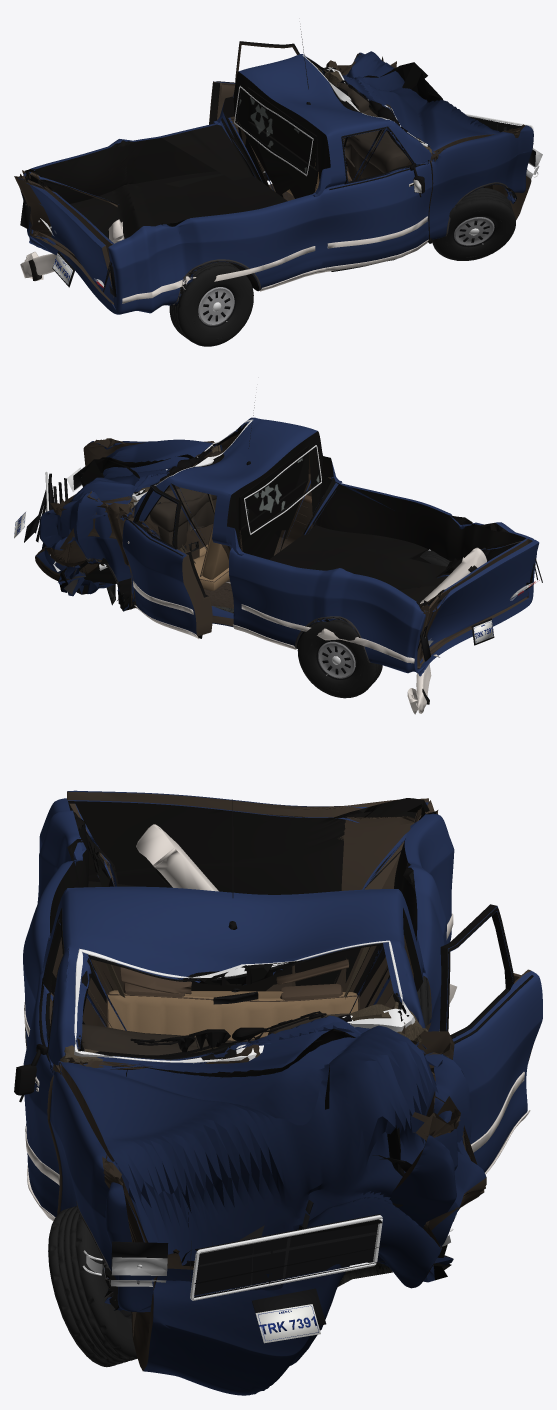
Rendered from pickup87_front_corner_d3_lod1.glb.
The picture shows the model from 3 angles, top to bottom: view 1: azimuth 30°, elevation 25°; view 2: azimuth 150°, elevation 25°; view 3: azimuth 270°, elevation 25°; orthographic projection. The views are drawn at different scales.
Visible parts, largest first — view 1: Body, Hood, Wheel_RR_mesh, Wheel_FR_mesh, Tailgate, Door_FR, Interior, Trim, Trim_FR, Ends, Glass, Door_FL (+1 smaller); view 2: Body, Hood, Door_FL, Tailgate, Wheel_RL_mesh, Interior, Trim, Ends, Bumper_R, Glass, Trim_FL, Door_FR; view 3: Body, Hood, Ends, Interior, Door_FL, Wheel_FR_mesh, Glass, Door_FR, Tailgate, Bumper_R, Trim, Trim_FR (+1 smaller).
Part boxes in pixels (x1,y1,x2,y2): Body: [20, 52, 533, 314]; Hood: [341, 51, 531, 219]; Wheel_RR_mesh: [169, 262, 253, 346]; Wheel_FR_mesh: [432, 187, 515, 260]; Tailgate: [14, 176, 113, 302]; Door_FR: [324, 128, 433, 267]; Interior: [287, 80, 409, 195]; Trim: [122, 26, 516, 305]; Trim_FR: [324, 126, 429, 272]; Ends: [20, 114, 542, 296]; Glass: [234, 55, 427, 176]; Door_FL: [209, 41, 299, 171]; Body: [39, 417, 536, 676]; Hood: [35, 439, 211, 594]; Door_FL: [122, 485, 212, 636]; Tailgate: [419, 540, 539, 660]; Wheel_RL_mesh: [297, 619, 382, 698]; Interior: [149, 451, 229, 590]; Trim: [58, 397, 414, 663]; Ends: [14, 466, 542, 661]; Bumper_R: [407, 547, 486, 714]; Glass: [132, 419, 321, 534]; Trim_FL: [125, 486, 202, 638]; Door_FR: [279, 469, 331, 542]; Body: [23, 798, 471, 1312]; Hood: [58, 1015, 486, 1395]; Ends: [82, 1200, 456, 1343]; Interior: [82, 959, 359, 1055]; Door_FL: [439, 904, 542, 1172]; Wheel_FR_mesh: [48, 1206, 137, 1367]; Glass: [74, 940, 415, 1063]; Door_FR: [23, 907, 64, 1217]; Tailgate: [67, 790, 428, 817]; Bumper_R: [136, 824, 456, 1003]; Trim: [24, 799, 453, 1304]; Trim_FR: [14, 908, 64, 1221].
Bounding box in the file's own units: 4.95 × 2.57 × 2.49.
Materials: 33 (5 with a texture image).
